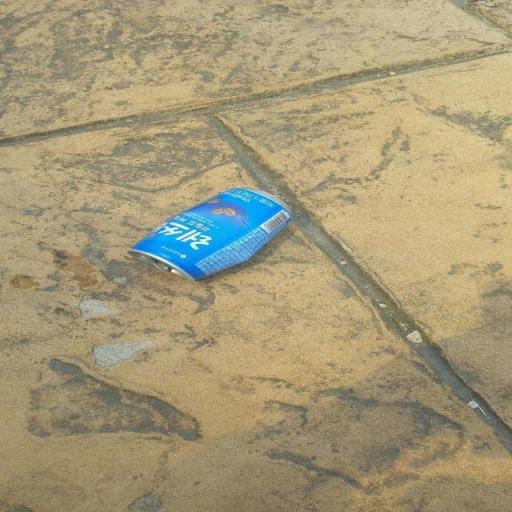metal: (100, 164, 302, 298)
